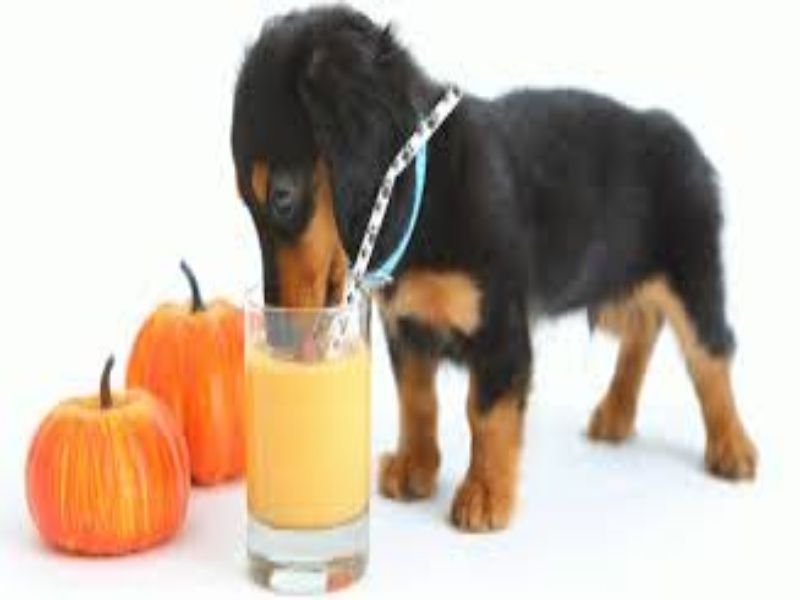dog: (224, 8, 759, 532)
